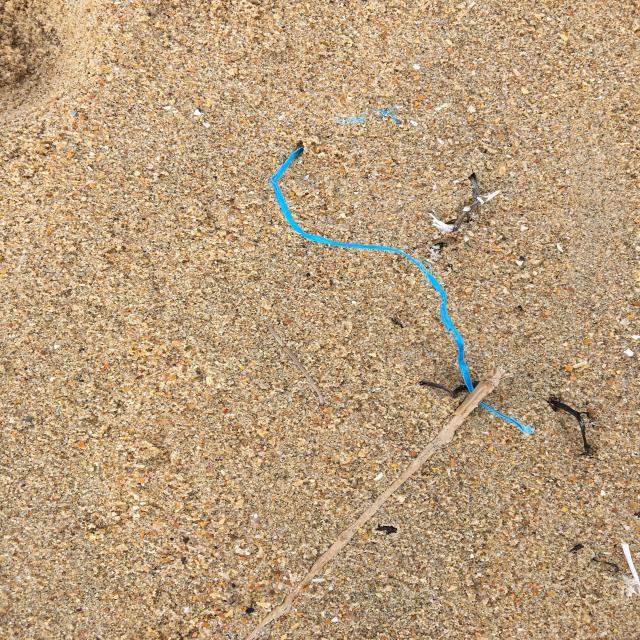litter: (249, 97, 557, 446)
